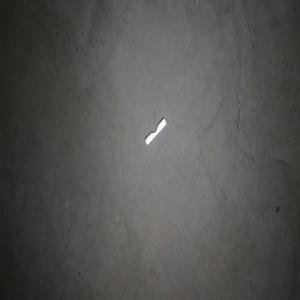ClampPart: (144, 116, 166, 146)
